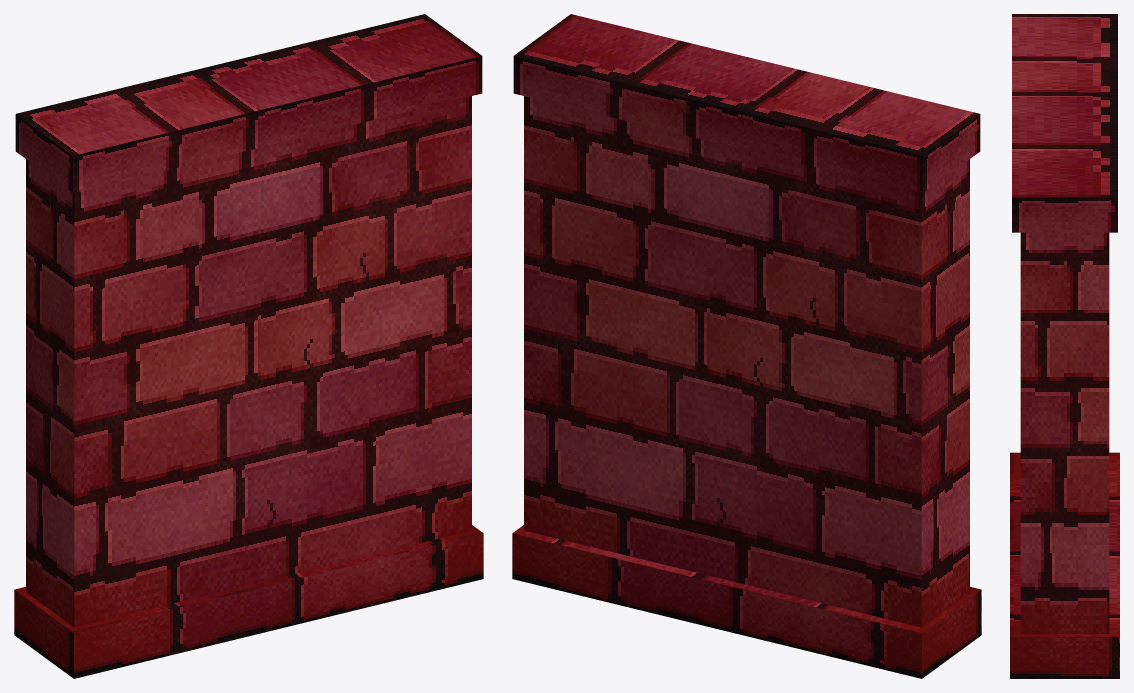
File: parede_de_sangue.glb
3 views of the same model, side by side, from view 1: azimuth 30°, elevation 25°; view 2: azimuth 150°, elevation 25°; view 3: azimuth 270°, elevation 25° (orthographic). The views are drawn at different scales.
Visible parts, largest first — view 1: parede_de_sangue; view 2: parede_de_sangue; view 3: parede_de_sangue.
Part boxes in pixels (box(x1,y1,x2,y2)): parede_de_sangue: box(14, 14, 483, 678); parede_de_sangue: box(512, 14, 981, 678); parede_de_sangue: box(1010, 14, 1119, 678).
Size of the model in its own units: 2.06 by 2.51 by 0.52.
Materials: 1 (1 with a texture image).
